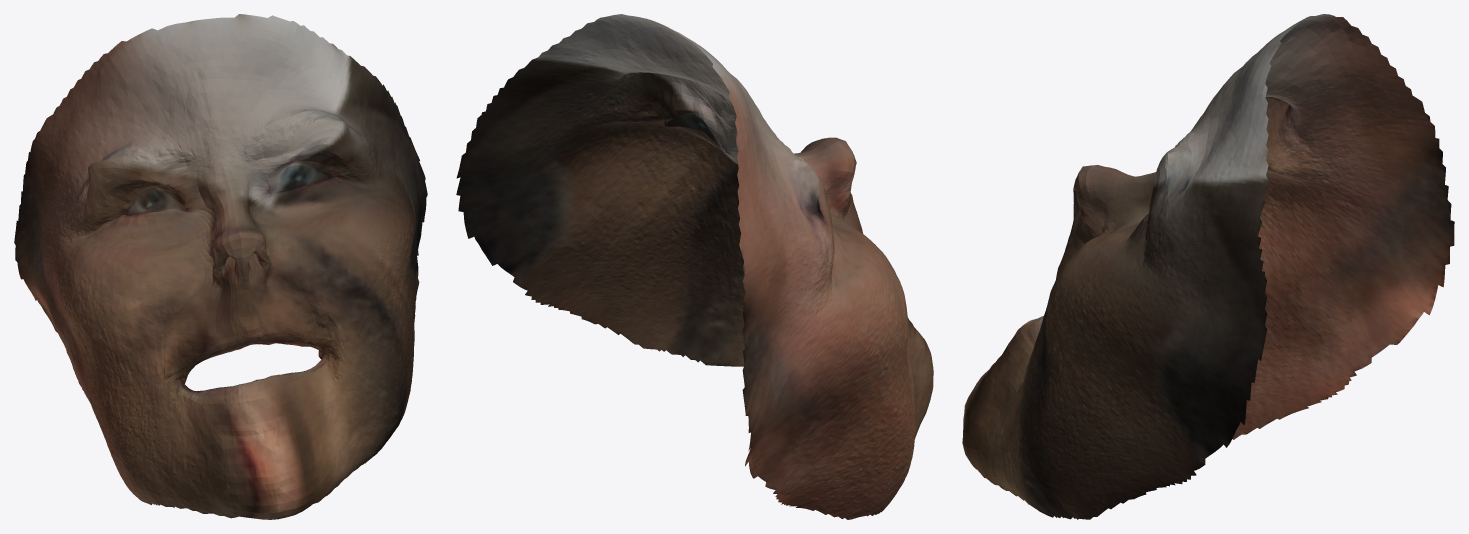
File: 3DDFAV3.obj
3 renders of one model, left to right at view 1: azimuth 30°, elevation 25°; view 2: azimuth 150°, elevation 25°; view 3: azimuth 270°, elevation 25°, orthographic. The views are drawn at different scales.
Bounding box in the file's own units: 1.16 × 1.28 × 1.15.
